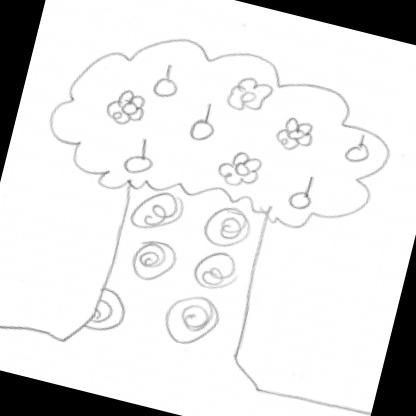apple: (116, 140, 160, 178), (187, 110, 221, 145), (147, 71, 182, 102), (288, 186, 316, 214), (346, 140, 374, 168)
crown_cloud: (38, 5, 412, 255)
knot: (157, 287, 225, 353), (124, 186, 190, 238), (124, 234, 183, 290), (197, 200, 256, 252), (188, 245, 245, 297), (84, 285, 132, 337)
root_none: (34, 313, 290, 414)
trunk_straight: (92, 204, 272, 346)
